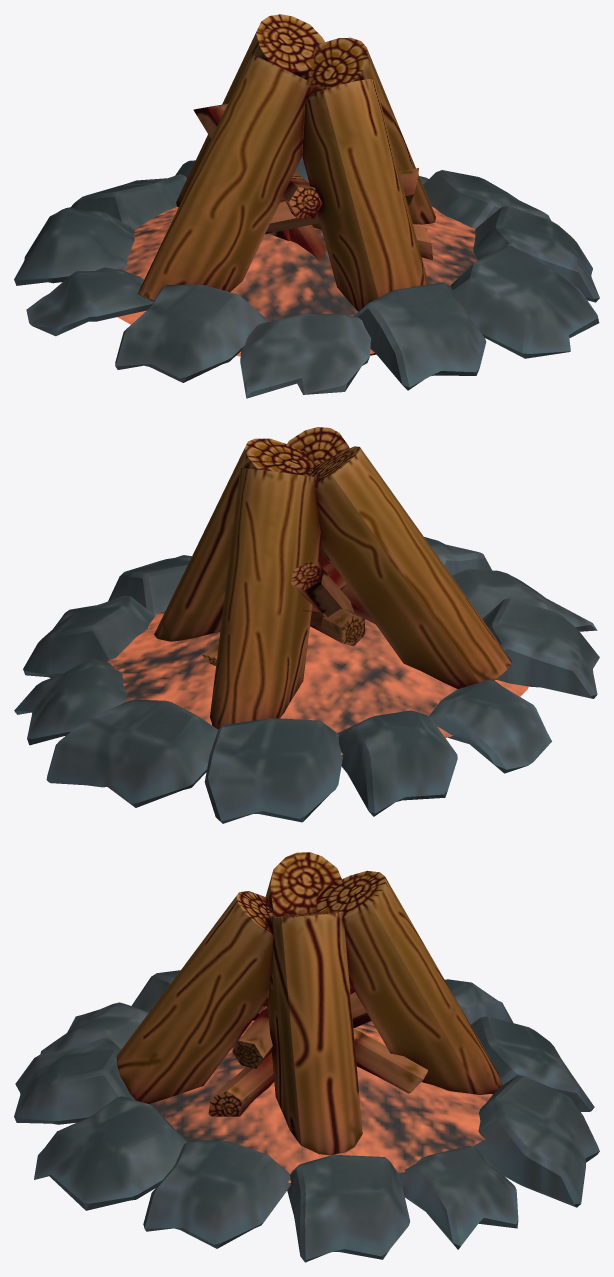
The model's file is Bonfire.gltf.
3 renders of one model, top to bottom at view 1: azimuth 30°, elevation 25°; view 2: azimuth 150°, elevation 25°; view 3: azimuth 270°, elevation 25°, orthographic.
Visible parts, largest first — view 1: palo1_4; view 2: palo1_4; view 3: palo1_4.
Part boxes in pixels (bbox=[...]): palo1_4: bbox=[14, 14, 599, 398]; palo1_4: bbox=[14, 427, 599, 823]; palo1_4: bbox=[14, 852, 599, 1262].
Size of the model in its own units: 6.42 by 3.29 by 6.42.
1 material, 1 textured.
